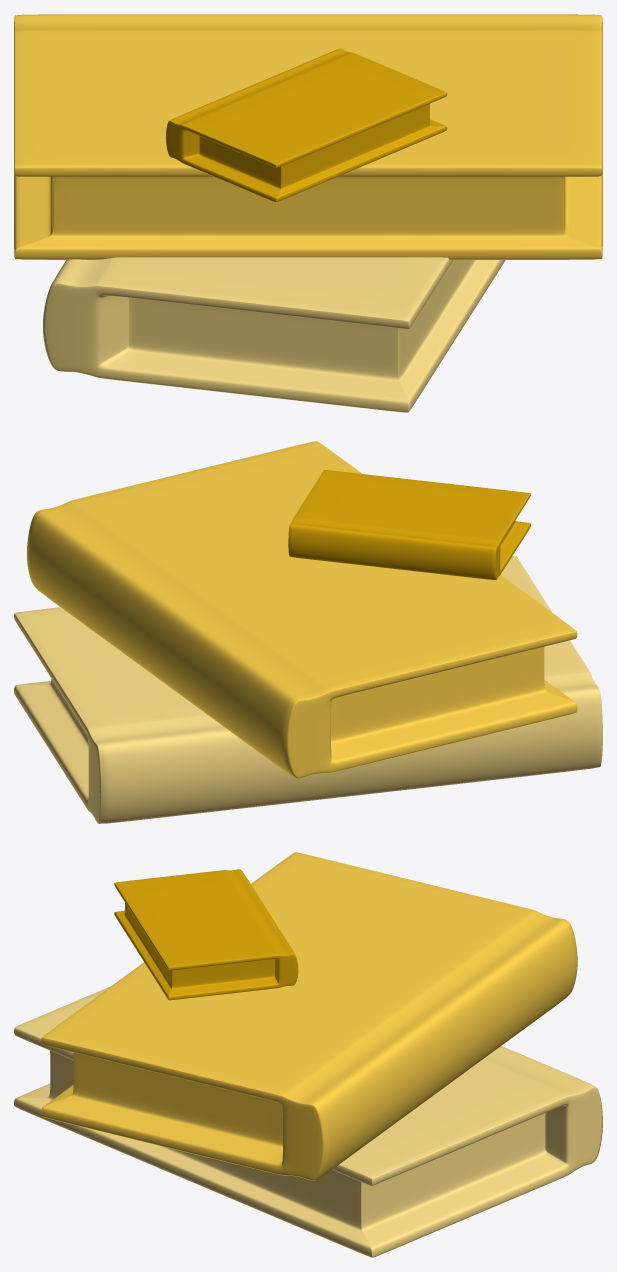
The model's file is Book1.glb.
The picture shows the model from 3 angles, top to bottom: view 1: azimuth 30°, elevation 25°; view 2: azimuth 150°, elevation 25°; view 3: azimuth 270°, elevation 25°; orthographic projection. The views are drawn at different scales.
Visible parts, largest first — view 1: pCube30, pCube29, pCube33; view 2: pCube30, pCube29, pCube33; view 3: pCube30, pCube29, pCube33.
Boxes of the visible parts, left/top/right/bottom form: pCube30: left=14, top=14, right=602, bottom=259; pCube29: left=43, top=257, right=505, bottom=412; pCube33: left=165, top=48, right=447, bottom=202; pCube30: left=27, top=441, right=577, bottom=778; pCube29: left=14, top=556, right=602, bottom=823; pCube33: left=288, top=470, right=530, bottom=579; pCube30: left=41, top=852, right=577, bottom=1180; pCube29: left=14, top=986, right=602, bottom=1257; pCube33: left=114, top=869, right=298, bottom=1000.
Bounding box in the file's own units: 91.15 × 32.48 × 89.17.
